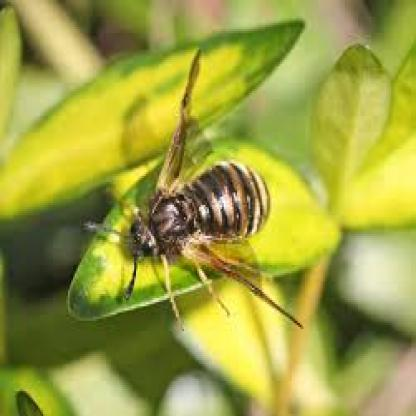sawfly: (91, 51, 304, 334)
